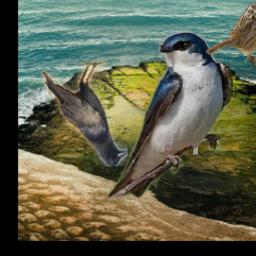Crow: (41, 62, 127, 167)
Sparrow: (206, 3, 256, 68)
Swallow: (106, 30, 234, 199)
